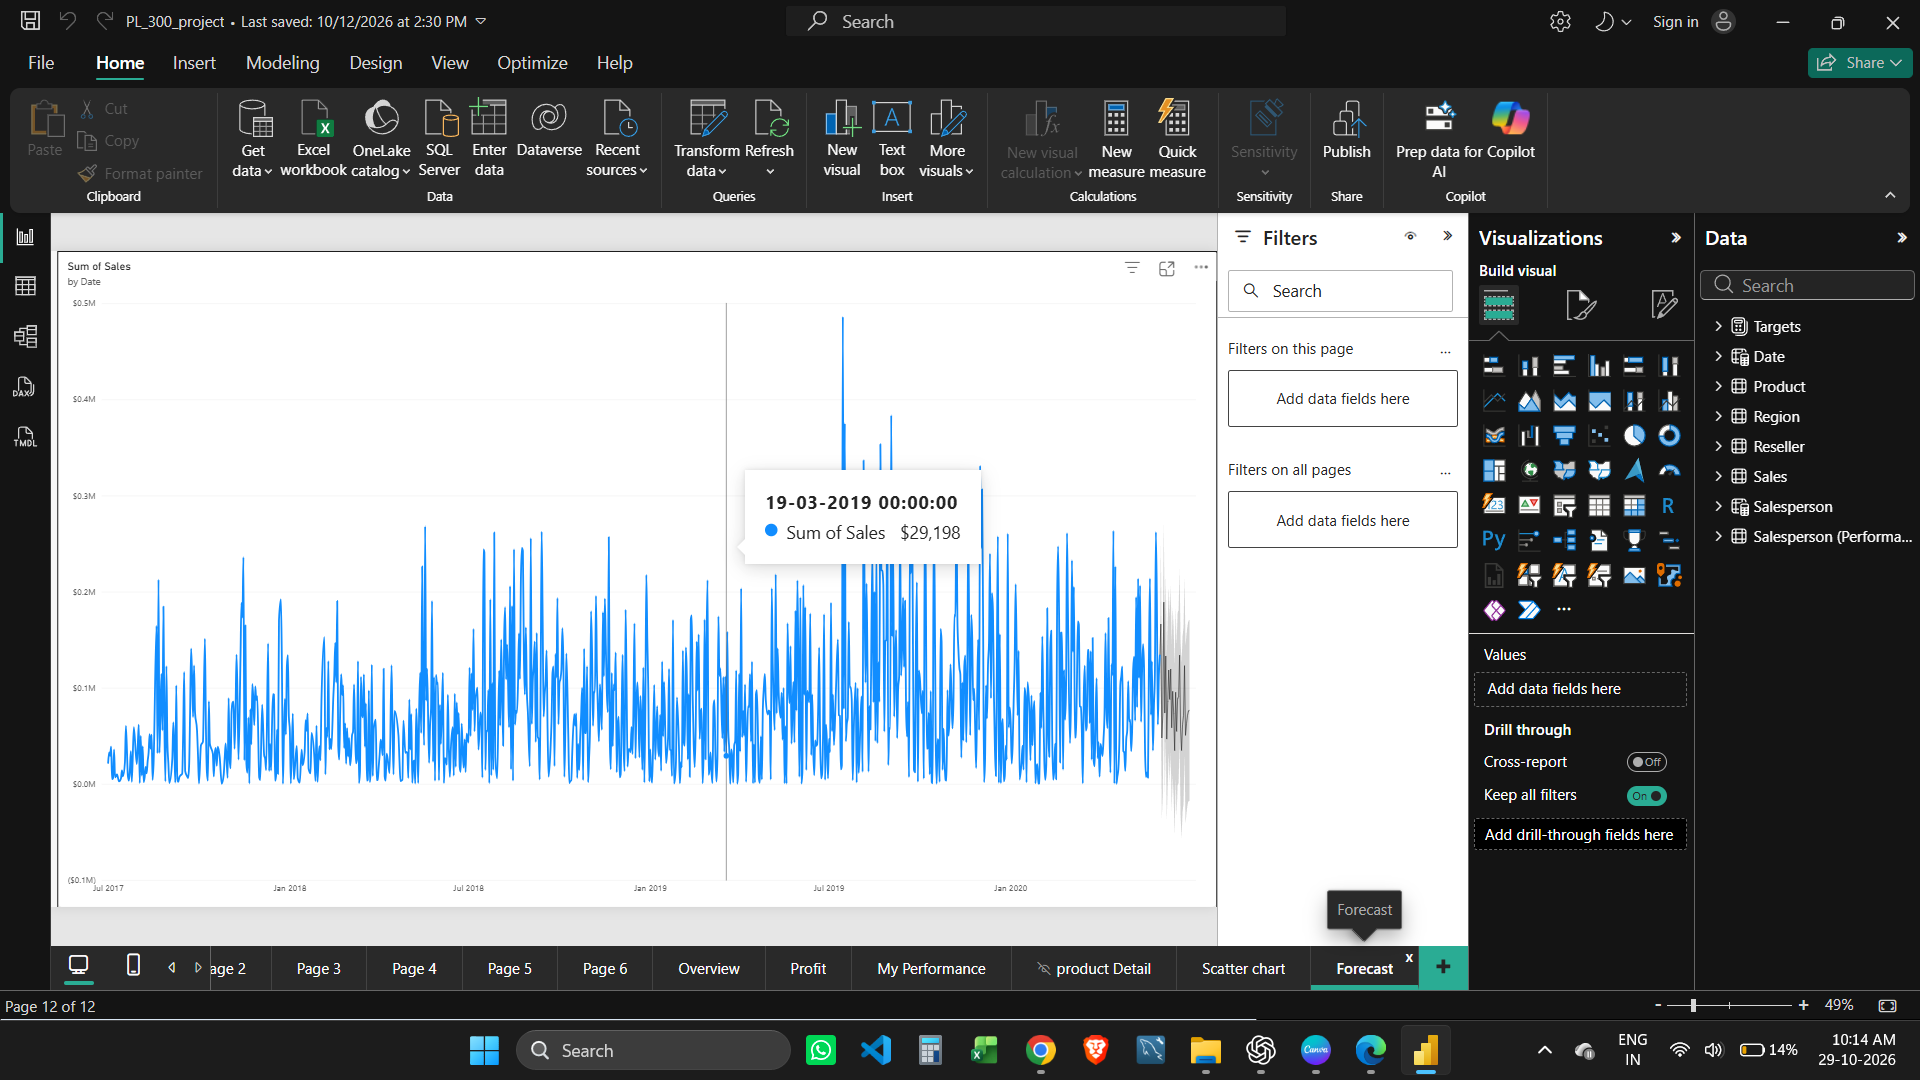

This screenshot's page, from the dashboard's own definition file:
{"tool":"powerbi","page":{"name":"Forecast","canvas":[1920,1080],"ordinal":11},"visuals":[{"type":"lineChart","fields":{"Category":["Date.Date"],"Y":["Sum(Sales.Sales)"]},"box":[10.4,0,1909.6,1081],"z":0}]}

Visuals, with their boxes on the page's 1920x1080 design canvas (x1, y1, x2, y2). These are canvas units, not pixel positions in the 1920x1080 screenshot, which may show the page scaled, cropped or inside an application window:
lineChart - Date.Date x Sum(Sales.Sales): box=[10, 0, 1920, 1081]
